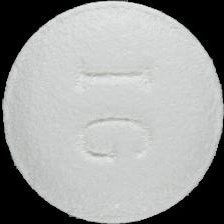50268-750: (0, 0, 224, 224)
